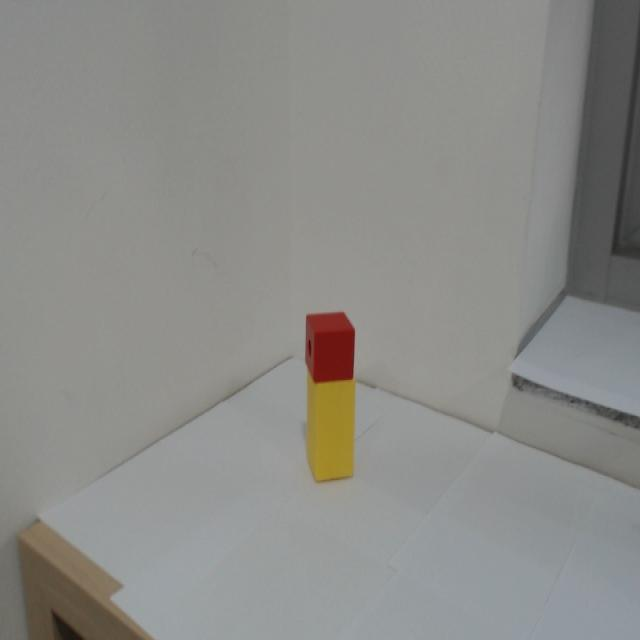cube: (302, 307, 358, 385)
